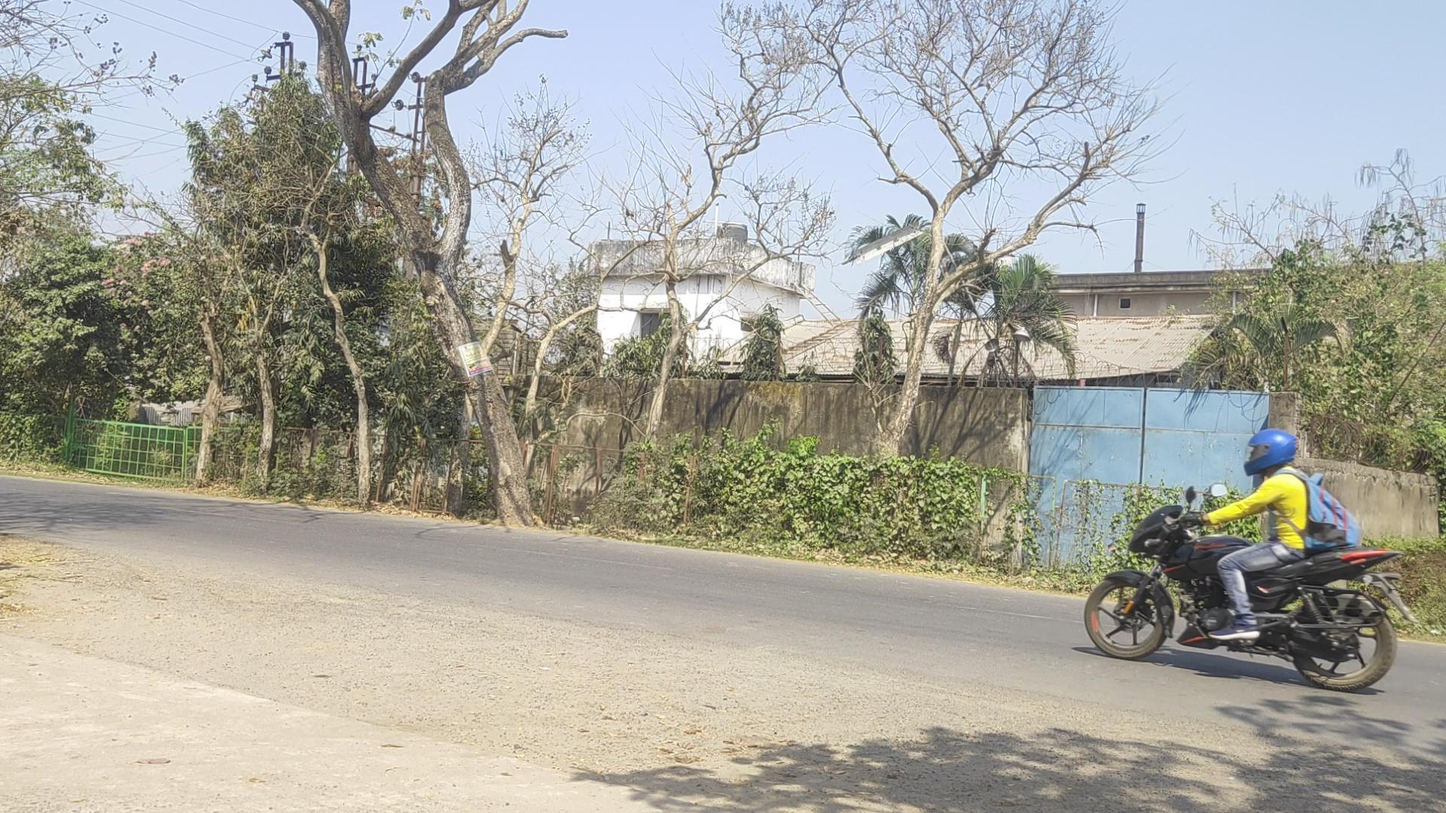bike: (1084, 428, 1415, 691)
